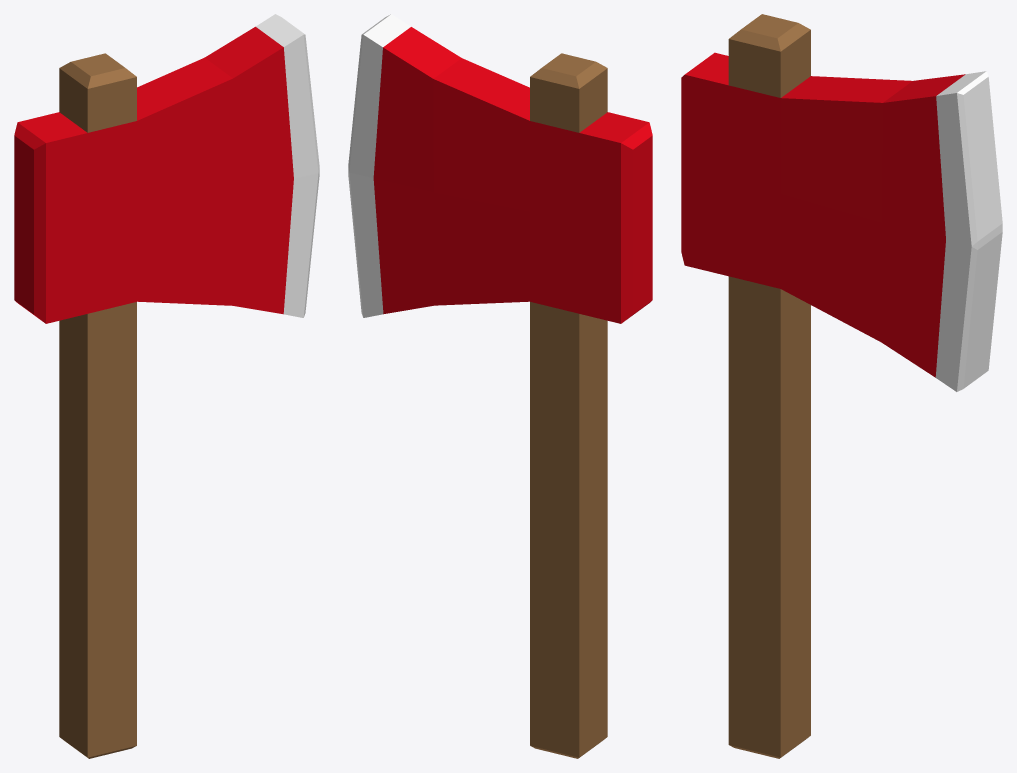
Rendered from Axe.fbx.
The picture shows the model from 3 angles, left to right: view 1: azimuth 30°, elevation 25°; view 2: azimuth 150°, elevation 25°; view 3: azimuth 330°, elevation 25°; orthographic projection. The views are drawn at different scales.
Parts seen in each view (by area): view 1: Axe; view 2: Axe; view 3: Axe.
Boxes of the visible parts, x1,y1,x2,y2 form: Axe: [14, 14, 319, 758]; Axe: [348, 14, 652, 758]; Axe: [681, 14, 1002, 758].
Size of the model in its own units: 1147 by 2632 by 204.
